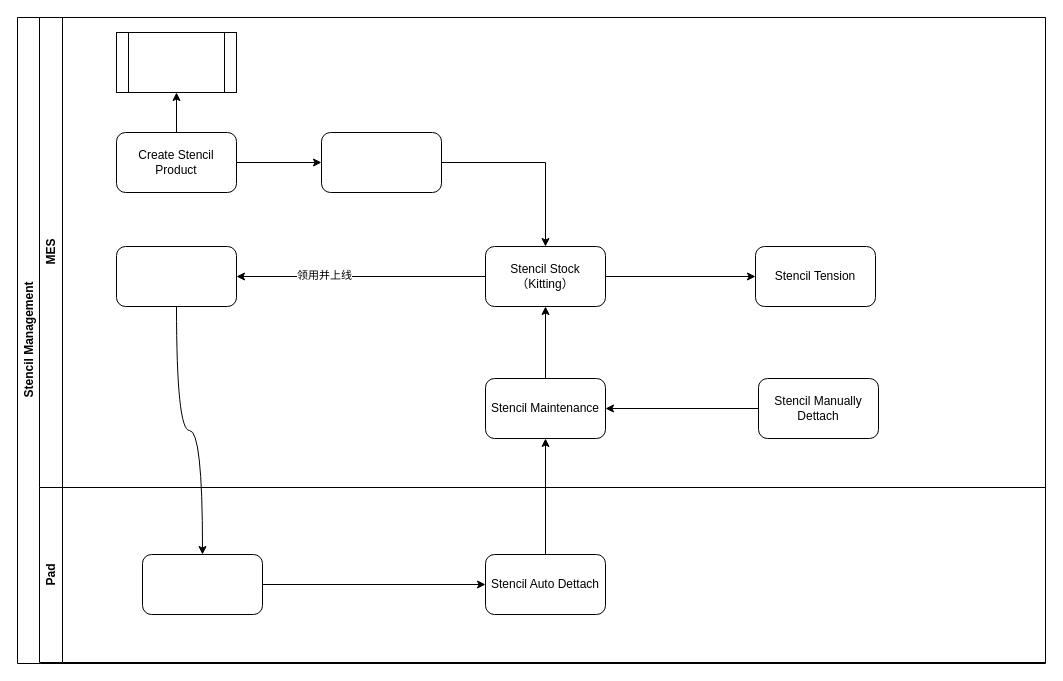
This 1063x681 diagram has some shape labels left out. The shapes that lost their labels are listed below. From the top down, each one's box as (x1, y1, x2, y2) in pixels, then its label:
(116, 32, 236, 92): Durable BOM Process
(320, 132, 442, 192): Create Stencil Material
(116, 246, 236, 306): Stencil Retrieve
(142, 554, 262, 614): Select a stencil attach to the Printer resource
